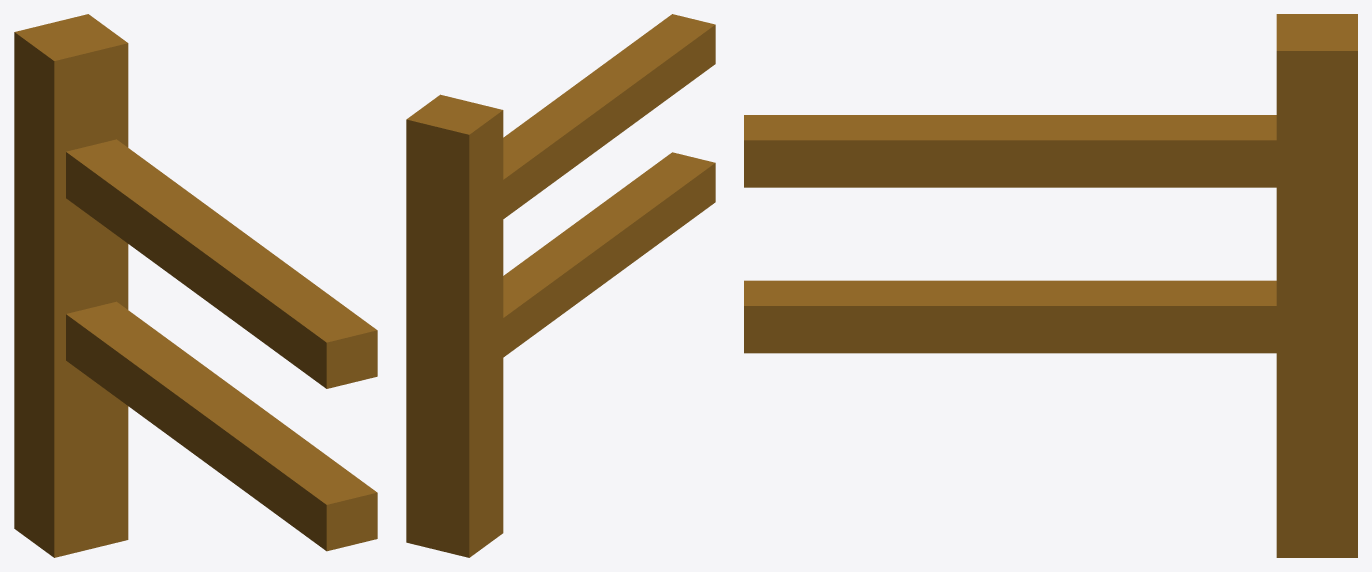
Rendered from fence.fbx.
3 renders of one model, left to right at view 1: azimuth 30°, elevation 25°; view 2: azimuth 150°, elevation 25°; view 3: azimuth 270°, elevation 25°, orthographic. The views are drawn at different scales.
Parts seen in each view (by area): view 1: Cube_8; view 2: Cube_8; view 3: Cube_8.
Boxes of the visible parts, x1,y1,x2,y2 form: Cube_8: [14, 14, 377, 557]; Cube_8: [406, 14, 715, 557]; Cube_8: [744, 14, 1357, 557].
Size of the model in its own units: 18.09 by 116 by 127.
